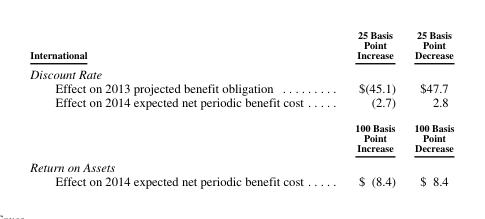table: (29, 28, 453, 187)
table column: (29, 28, 328, 187), (328, 28, 404, 187), (404, 28, 453, 187)
table column header: (29, 28, 453, 63)
table projected row header: (29, 63, 453, 80), (29, 156, 453, 173)
table row: (29, 115, 453, 156), (29, 28, 453, 63), (29, 94, 453, 115), (29, 63, 453, 80), (29, 156, 453, 173), (29, 80, 453, 94), (29, 173, 453, 187)
table spanning cell: (29, 94, 328, 156)
